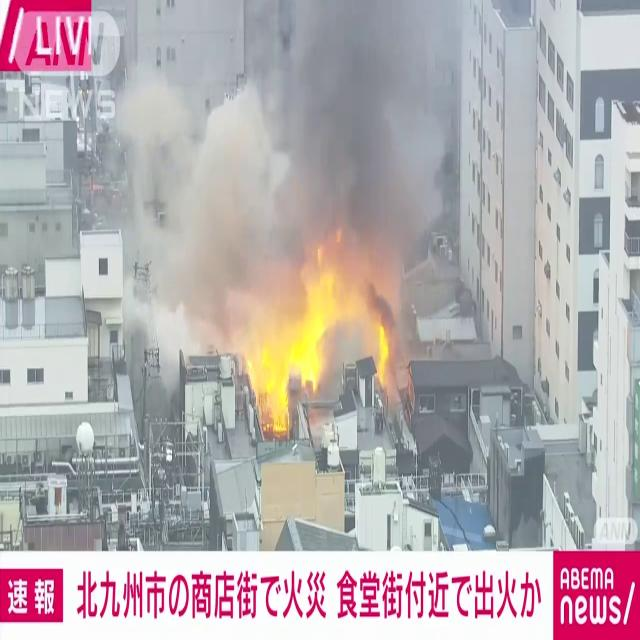Fire: (238, 236, 394, 434), (371, 318, 392, 391)
Smoke: (119, 1, 458, 314)
